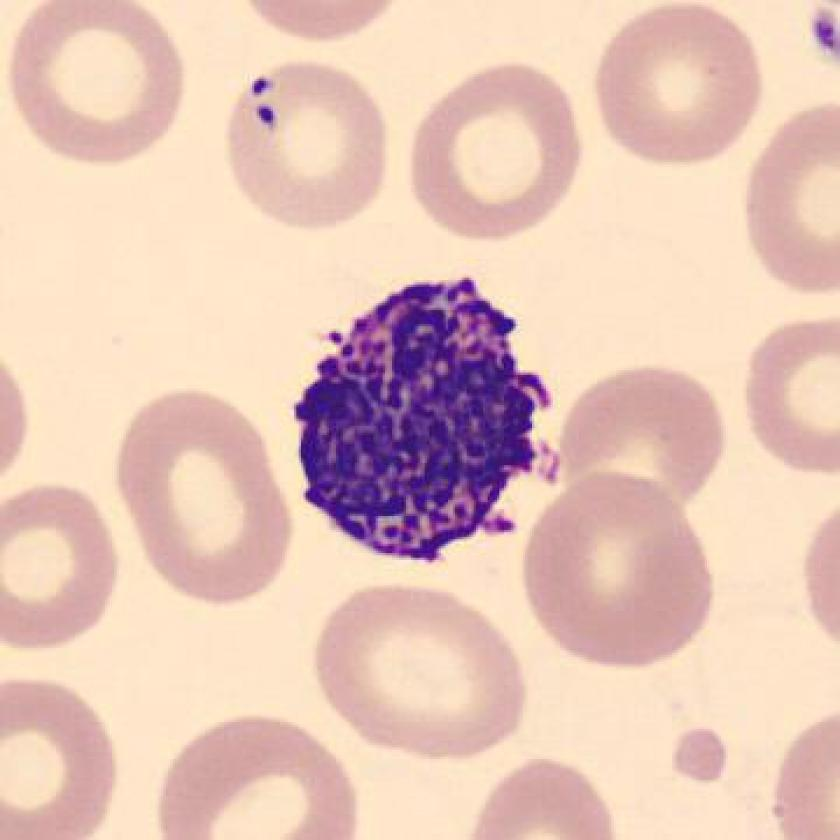basophil: (290, 265, 552, 573)
